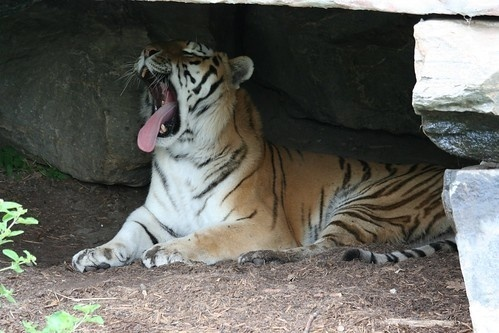tigre: (71, 41, 453, 267)
